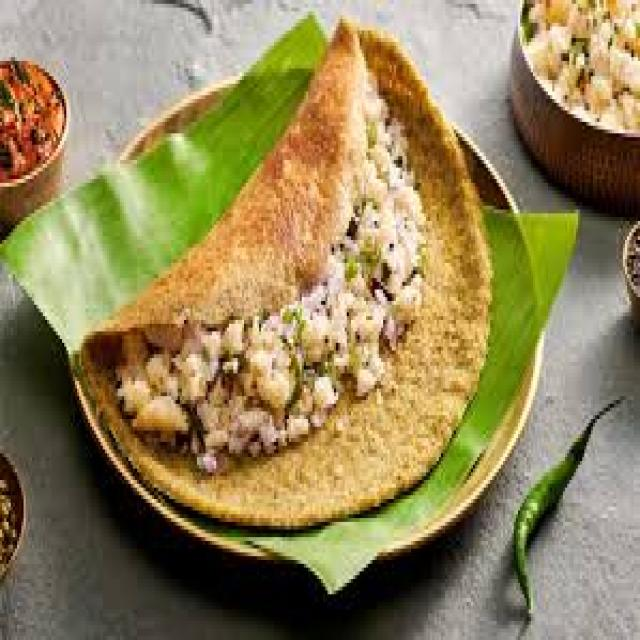DOSA: (79, 15, 490, 526)
